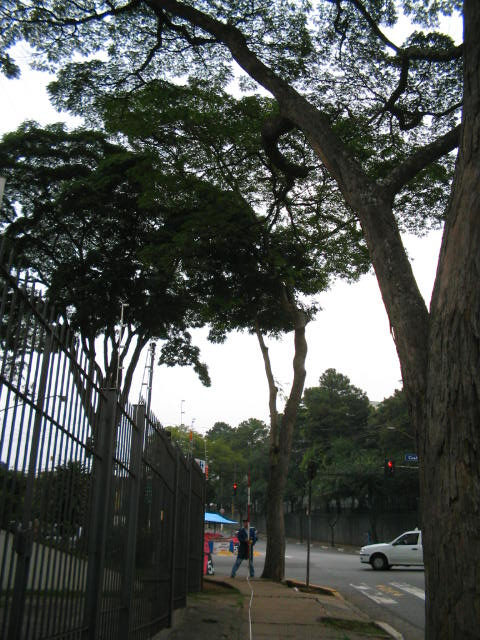crown: (2, 120, 335, 367), (146, 80, 420, 351)
stem: (256, 458, 301, 582)
stick: (237, 472, 258, 581)
tree: (145, 80, 421, 586)
